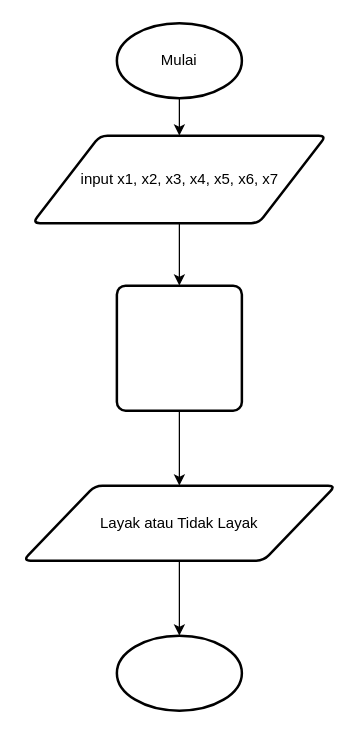
This 358x733 diagram has some shape labels left out. The centre of each missing label's shape, as x and y in pixels:
"Proses Pelatihan" goes at (178,347).
"Selesai" goes at (178,672).
